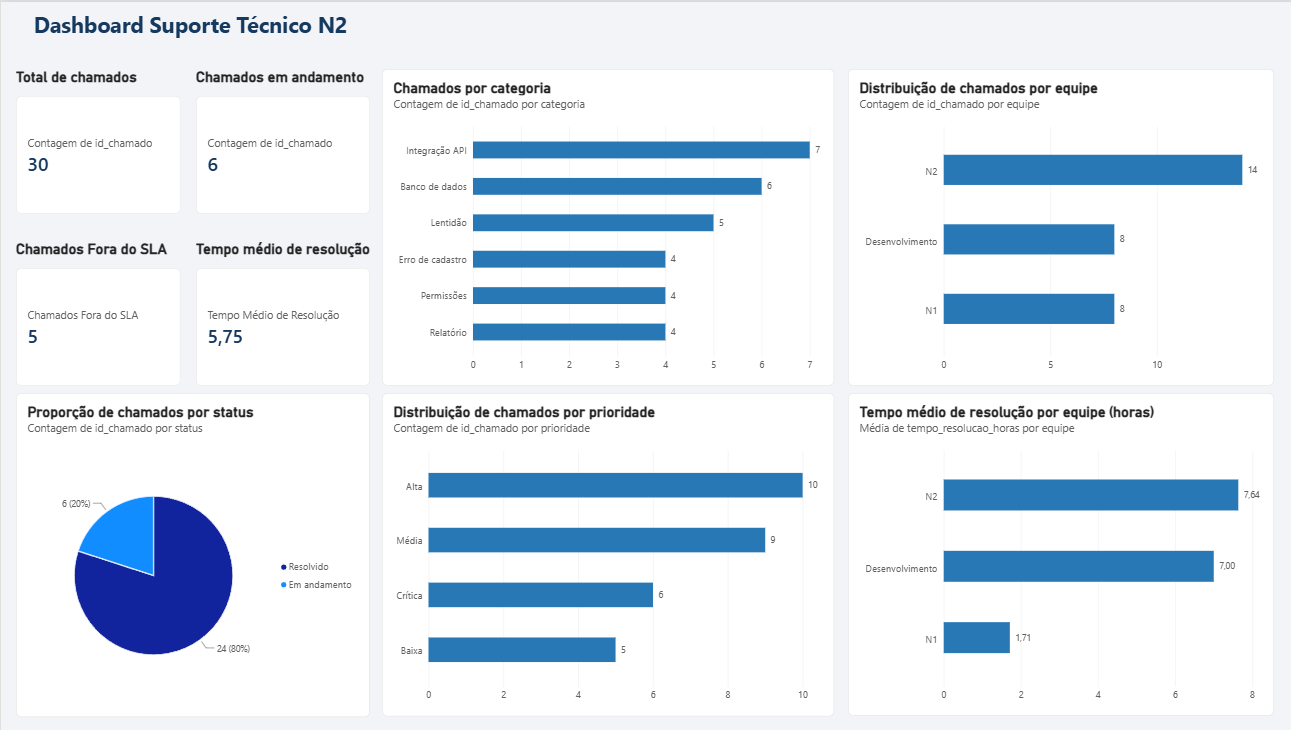

What the dashboard file says about the page in this screenshot:
{"tool":"powerbi","page":{"name":"Página 1","canvas":[1920,1080],"ordinal":0},"visuals":[{"type":"cardVisual","title":"Total de chamados","fields":{"Data":["CountNonNull(chamados.id_chamado)"]},"box":[22.3,99.4,244.8,215.1],"z":0},{"type":"cardVisual","title":"Chamados em andamento","fields":{"Data":["Count(chamados.id_chamado)"]},"box":[289.3,99.4,258.2,215.1],"z":1},{"type":"cardVisual","title":"Chamados Fora do SLA","fields":{"Data":["chamados.Chamados Fora do SLA"]},"box":[22.3,354.6,244.8,215.1],"z":2},{"type":"clusteredBarChart","title":"Chamados por categoria","fields":{"Category":["chamados.categoria"],"Y":["Count(chamados.id_chamado)"]},"box":[565.3,99.4,670.7,470.4],"z":3},{"type":"cardVisual","title":"Tempo médio de resolução","fields":{"Data":["chamados.Tempo Médio de Resolução"]},"box":[289.3,354.6,258.2,215.1],"z":4},{"type":"clusteredBarChart","title":"Distribuição de chamados por equipe","fields":{"Category":["chamados.equipe"],"Y":["Count(chamados.id_chamado)"]},"box":[1256.8,99.4,632.1,470.4],"z":5},{"type":"clusteredBarChart","title":"Distribuição de chamados por prioridade","fields":{"Category":["chamados.prioridade"],"Y":["Count(chamados.id_chamado)"]},"box":[565.3,580.2,671.1,480],"z":6},{"type":"pieChart","title":"Proporção de chamados por status","fields":{"Category":["chamados.status"],"Y":["Count(chamados.id_chamado)"]},"box":[22.3,580.2,525.3,480.7],"z":7},{"type":"clusteredBarChart","title":"Tempo médio de resolução por equipe (horas)","fields":{"Category":["chamados.equipe"],"Y":["Avg(chamados.tempo_resolucao_horas)"]},"box":[1256.8,580.2,632.1,479.3],"z":8},{"type":"textbox","box":[13.4,10.4,552,60.8],"z":9}]}

Visuals, with their boxes in screenshot pixels (x1, y1, x2, y2), scaled from the page's 1920x1080 canvas onto the 1291x730 screenshot:
"Total de chamados" cardVisual: <box>15,67,180,213</box>
"Chamados em andamento" cardVisual: <box>195,67,368,213</box>
"Chamados Fora do SLA" cardVisual: <box>15,240,180,385</box>
"Chamados por categoria" clusteredBarChart: <box>380,67,831,385</box>
"Tempo médio de resolução" cardVisual: <box>195,240,368,385</box>
"Distribuição de chamados por equipe" clusteredBarChart: <box>845,67,1270,385</box>
"Distribuição de chamados por prioridade" clusteredBarChart: <box>380,392,831,717</box>
"Proporção de chamados por status" pieChart: <box>15,392,368,717</box>
"Tempo médio de resolução por equipe (horas)" clusteredBarChart: <box>845,392,1270,716</box>
textbox: <box>9,7,380,48</box>
